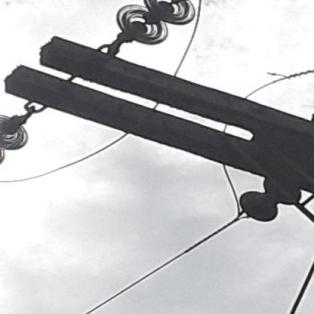Poste: (298, 93, 313, 314)
